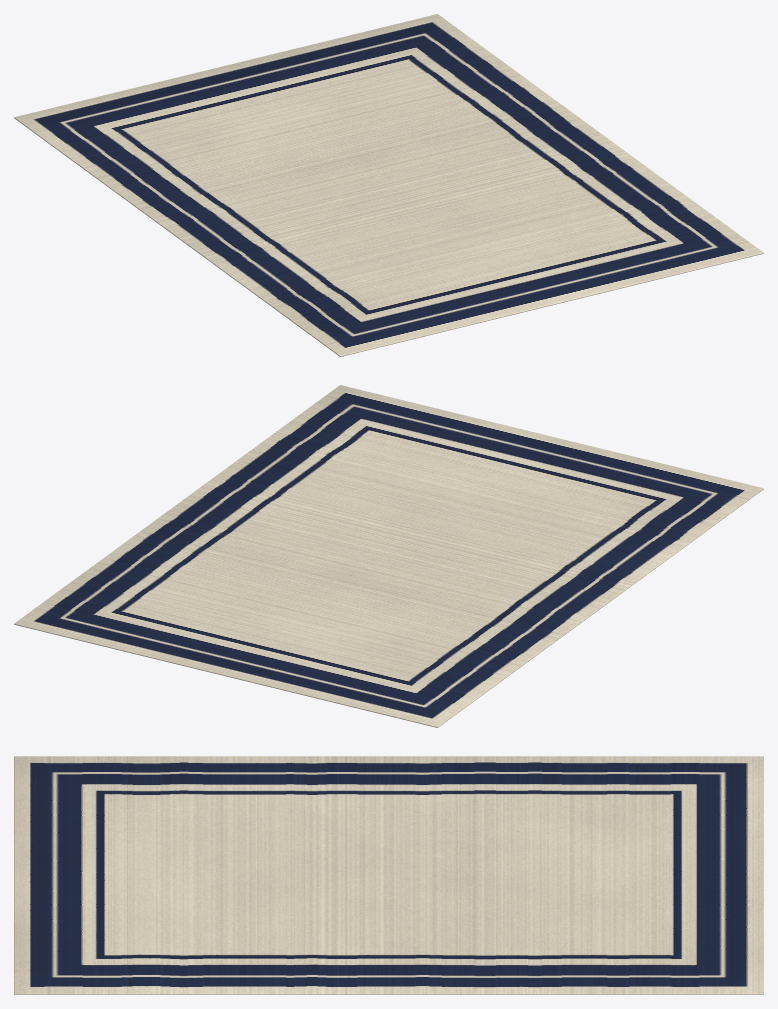
File: rug-farmhouse-border.acfadd5f.glb
3 renders of one model, top to bottom at view 1: azimuth 30°, elevation 25°; view 2: azimuth 150°, elevation 25°; view 3: azimuth 270°, elevation 25°, orthographic. The views are drawn at different scales.
Visible parts, largest first — view 1: rug-farmhouse-border; view 2: rug-farmhouse-border; view 3: rug-farmhouse-border.
Part boxes in pixels (<box>): rug-farmhouse-border: <box>14,14,763,356</box>; rug-farmhouse-border: <box>14,385,763,727</box>; rug-farmhouse-border: <box>14,756,763,994</box>.
Size of the model in its own units: 1.5 by 0.004 by 2.
1 material, 1 textured.
